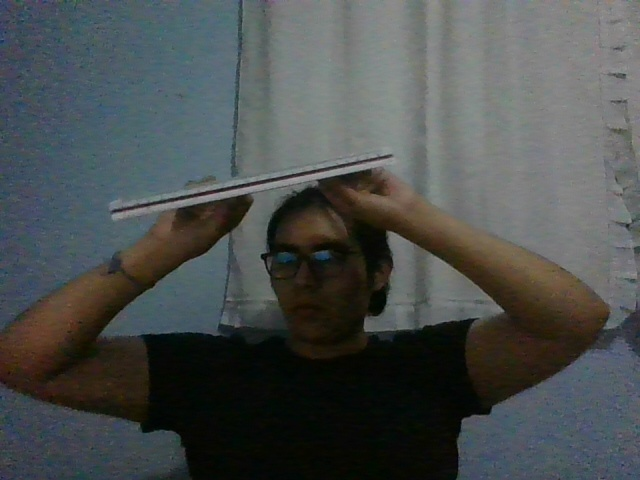regla: (108, 146, 396, 222)
